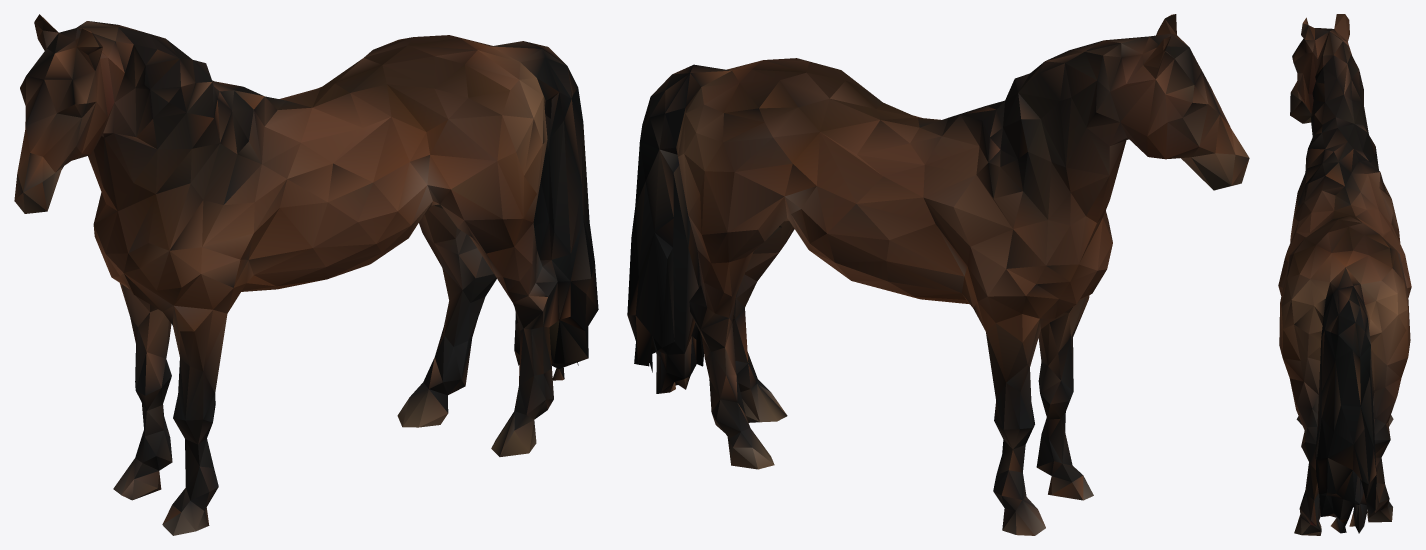
Rendered from horse_standing.glb.
3 views of the same model, side by side, from view 1: azimuth 30°, elevation 25°; view 2: azimuth 150°, elevation 25°; view 3: azimuth 270°, elevation 25° (orthographic). The views are drawn at different scales.
Visible parts, largest first — view 1: horse_standing; view 2: horse_standing; view 3: horse_standing.
Part boxes in pixels (left/top/right/bottom): horse_standing: left=14, top=14, right=598, bottom=535; horse_standing: left=627, top=14, right=1249, bottom=535; horse_standing: left=1278, top=14, right=1411, bottom=535.
Bounding box in the file's own units: 6.98 × 5.88 × 1.93.
